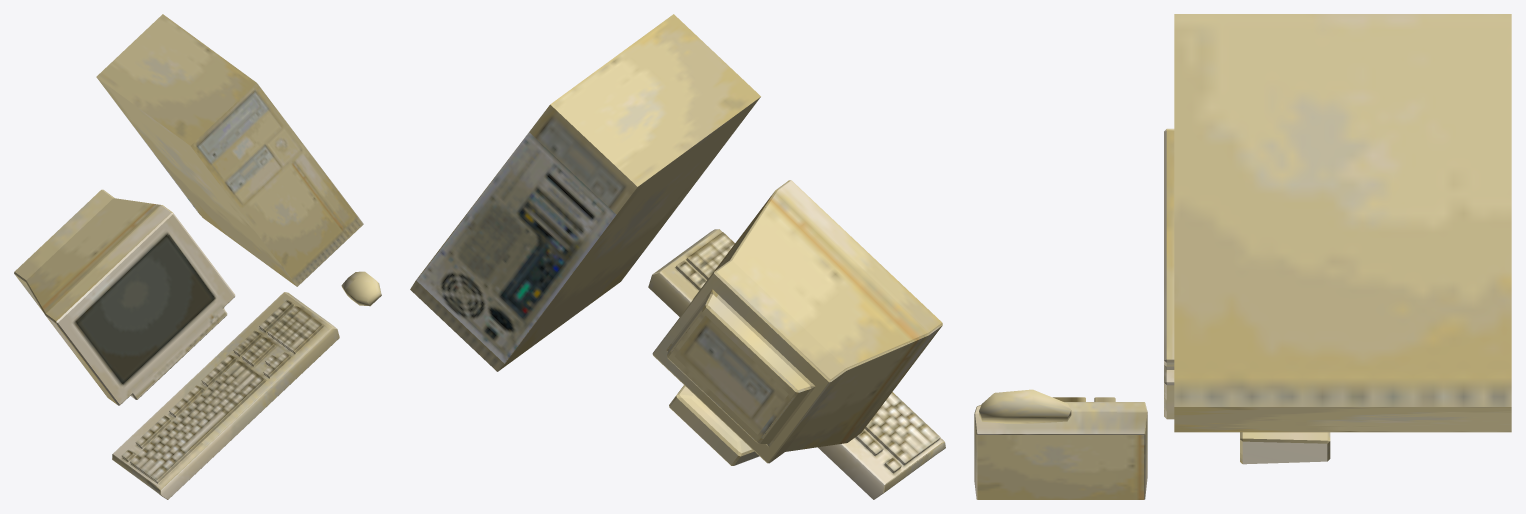
File: LowPoly_Psx_Old_Computer.glb
The picture shows the model from 3 angles, left to right: view 1: azimuth 30°, elevation 25°; view 2: azimuth 150°, elevation 25°; view 3: azimuth 270°, elevation 25°; orthographic projection. The views are drawn at different scales.
Parts seen in each view (by area): view 1: CPU Plainde_Material.001_0, Monitor Plainde_Material.003_0, Keyboarde_Material.002_0, Mousede_Material.005_0; view 2: CPU Plainde_Material.001_0, Monitor Plainde_Material.003_0, Keyboarde_Material.002_0; view 3: CPU Plainde_Material.001_0, Keyboarde_Material.002_0, Monitor Plainde_Material.003_0, Mousede_Material.005_0.
Boxes of the visible parts, <box> form: CPU Plainde_Material.001_0: <box>96,14,363,286</box>; Monitor Plainde_Material.003_0: <box>14,189,235,405</box>; Keyboarde_Material.002_0: <box>112,292,339,499</box>; Mousede_Material.005_0: <box>341,271,381,306</box>; CPU Plainde_Material.001_0: <box>410,14,760,371</box>; Monitor Plainde_Material.003_0: <box>652,180,942,465</box>; Keyboarde_Material.002_0: <box>648,229,945,499</box>; CPU Plainde_Material.001_0: <box>1174,14,1511,432</box>; Keyboarde_Material.002_0: <box>974,397,1147,499</box>; Monitor Plainde_Material.003_0: <box>1164,128,1330,464</box>; Mousede_Material.005_0: <box>979,389,1071,423</box>.
Bounding box in the file's own units: 4.76 × 5.01 × 3.99.
Materials: 1 (1 with a texture image).
